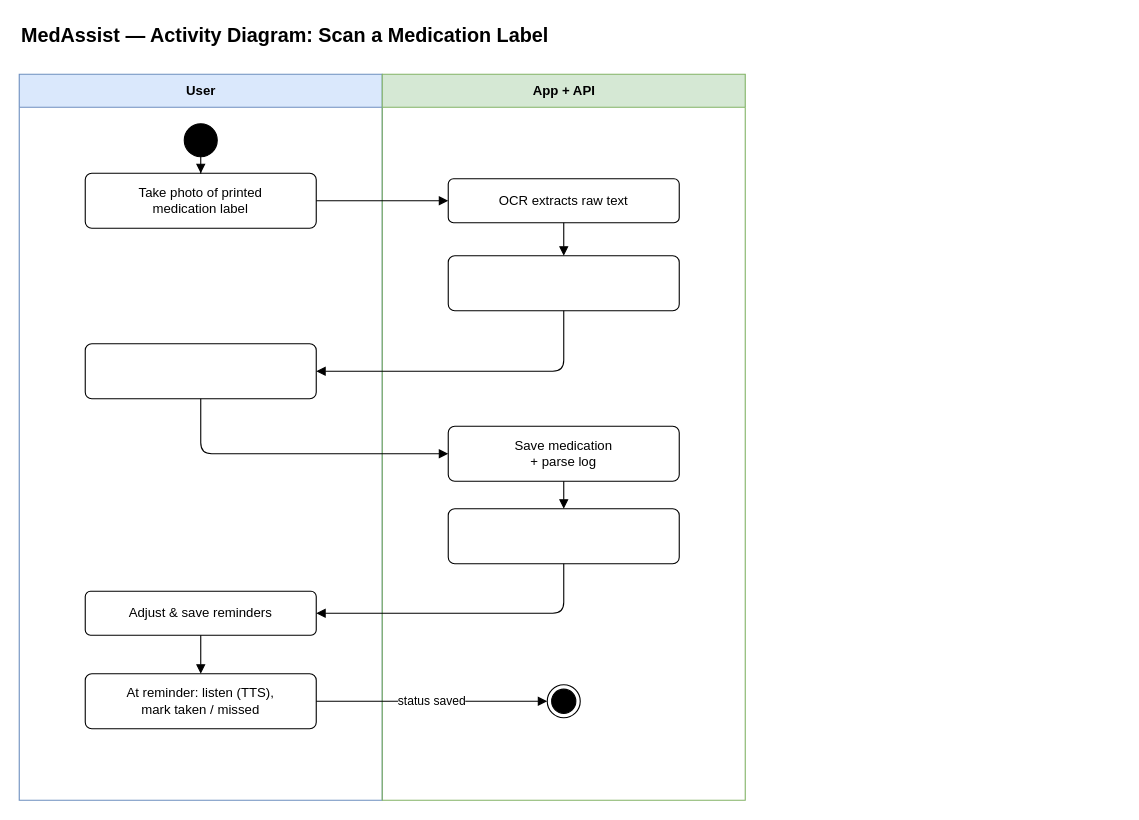
This 1139x820 diagram has some shape labels left out. Here are the shapes that lost their labels. From the top down, the centre of each, then its label:
At point (563, 283): "Parser → dosage, frequency, timing, duration, risk flags".
At point (200, 371): "Review & edit parsed medication details".
At point (563, 536): "Suggest reminder times from frequency & timing".
